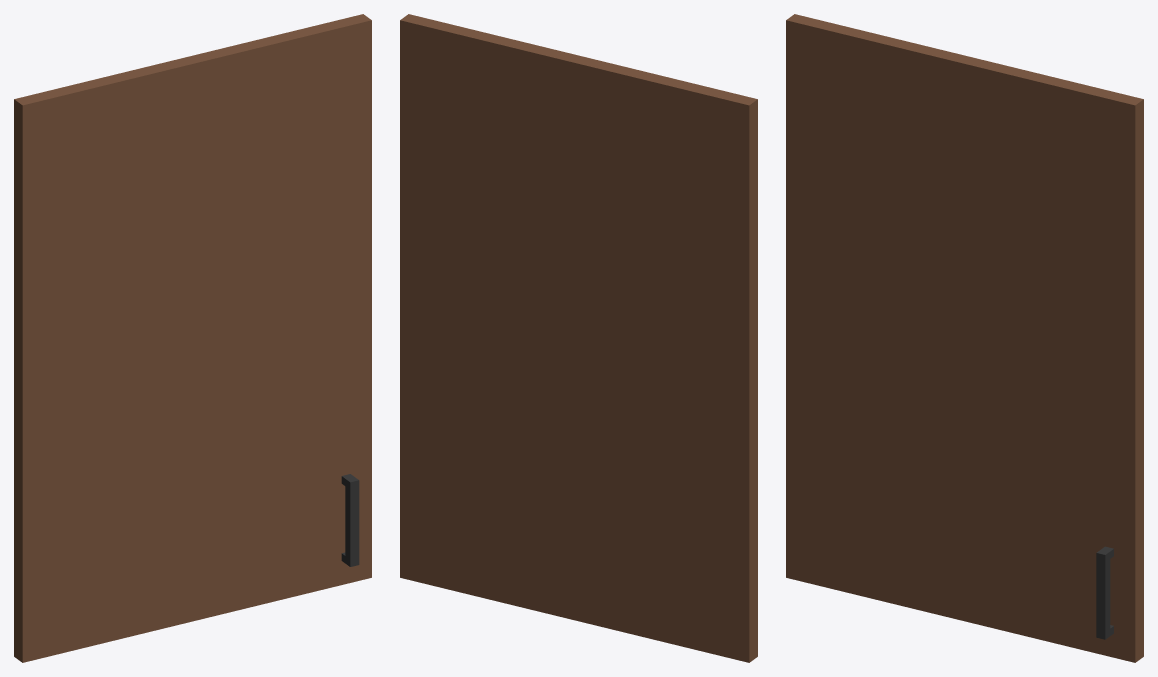
The model's file is Door1_C2_12.fbx.
The picture shows the model from 3 angles, left to right: view 1: azimuth 30°, elevation 25°; view 2: azimuth 150°, elevation 25°; view 3: azimuth 330°, elevation 25°; orthographic projection.
Visible parts, largest first — view 1: Door1_C2_12; view 2: Door1_C2_12; view 3: Door1_C2_12.
Boxes of the visible parts, x1,y1,x2,y2 form: Door1_C2_12: (14, 14, 371, 662); Door1_C2_12: (400, 14, 757, 662); Door1_C2_12: (786, 14, 1143, 662).
Bounding box in the file's own units: 59 × 90 × 5.03.
